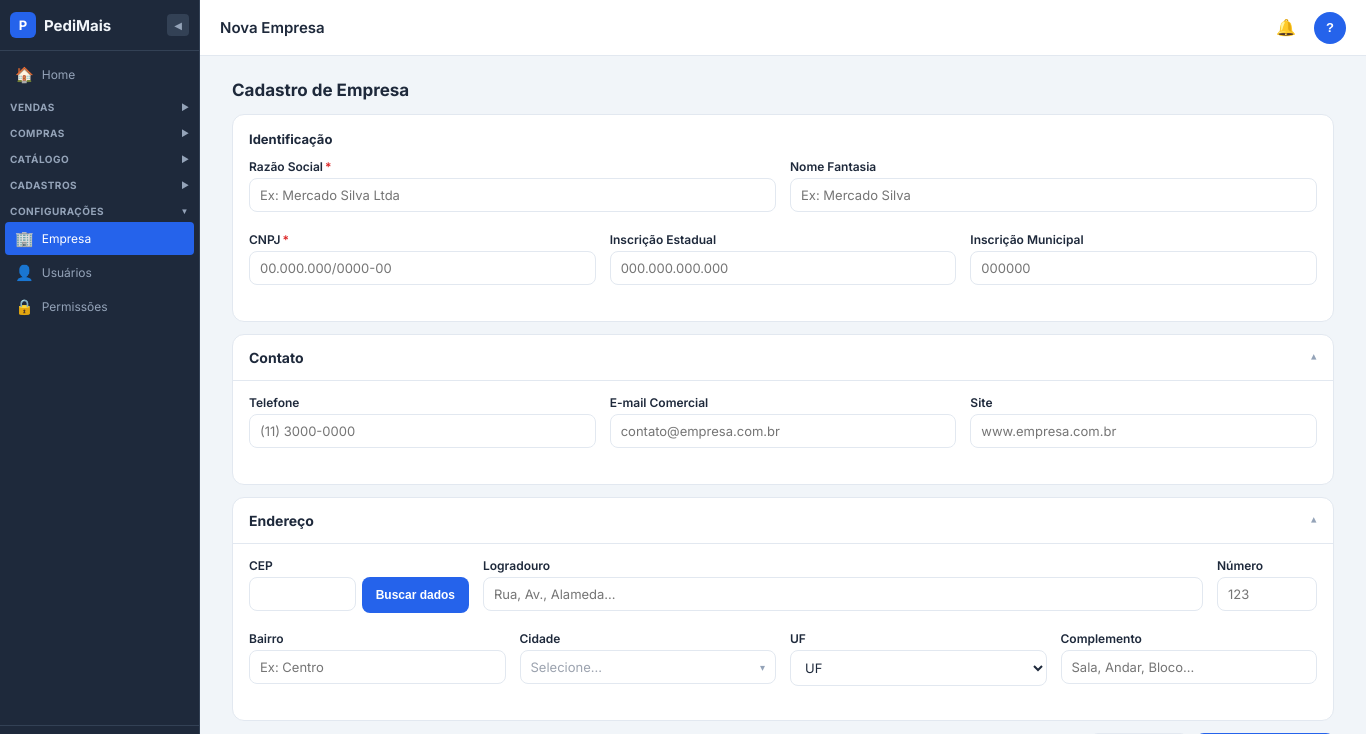
Test: CompanyFormView › loads the municipality list only when the cidade dropdown opens, scoped to the chosen UF
Select "SP" in the dropdown with test id "state". click: (918, 668)
box: [790,650,1046,686]
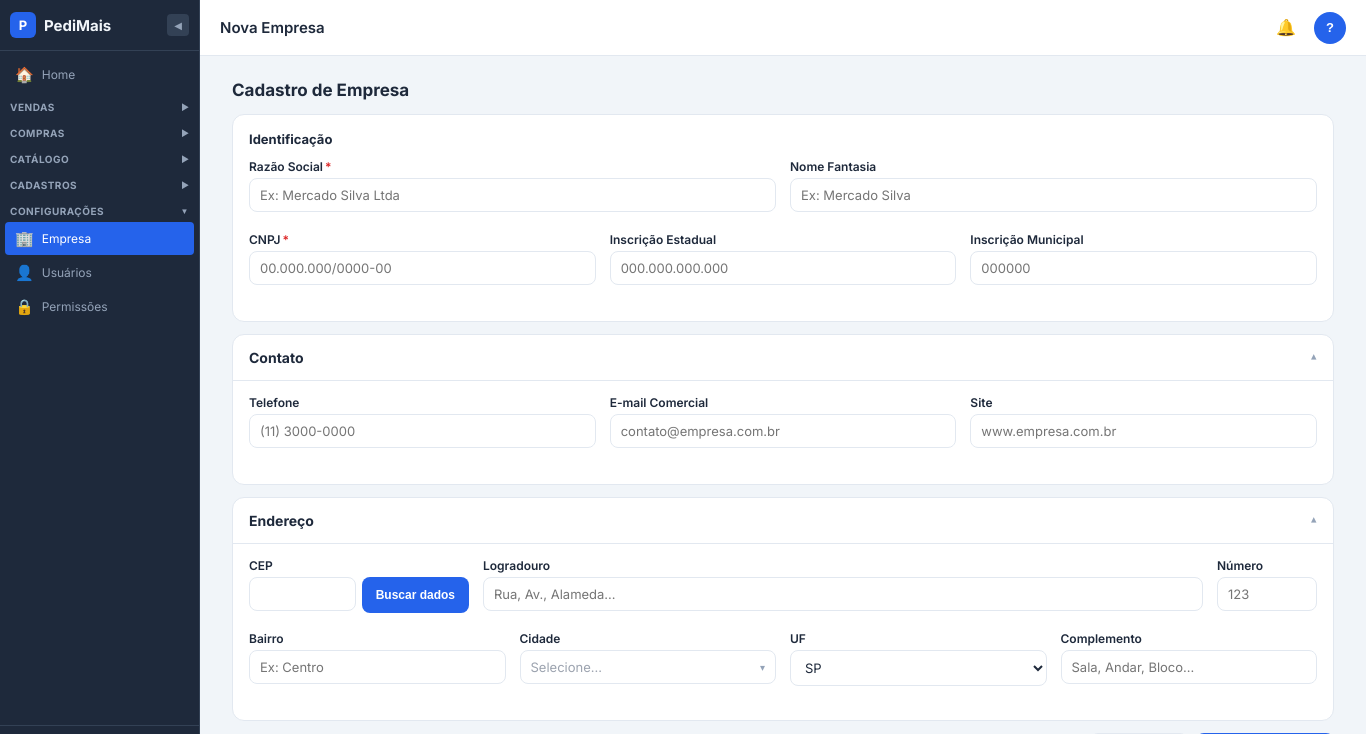
Click the element with test id "city". click: (648, 667)
box: [520,650,776,684]
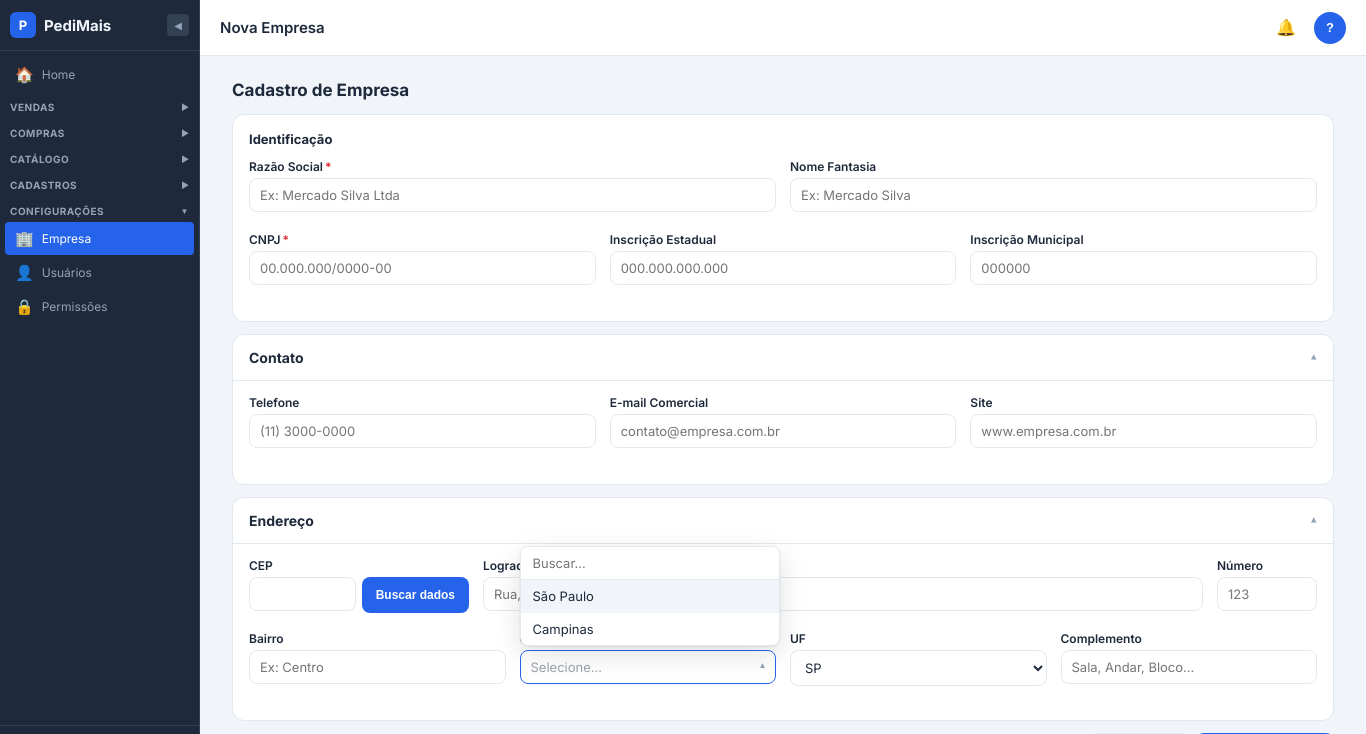
Click the element with test id "city-option-Campinas". click: (563, 629)
box: [532,621,594,637]
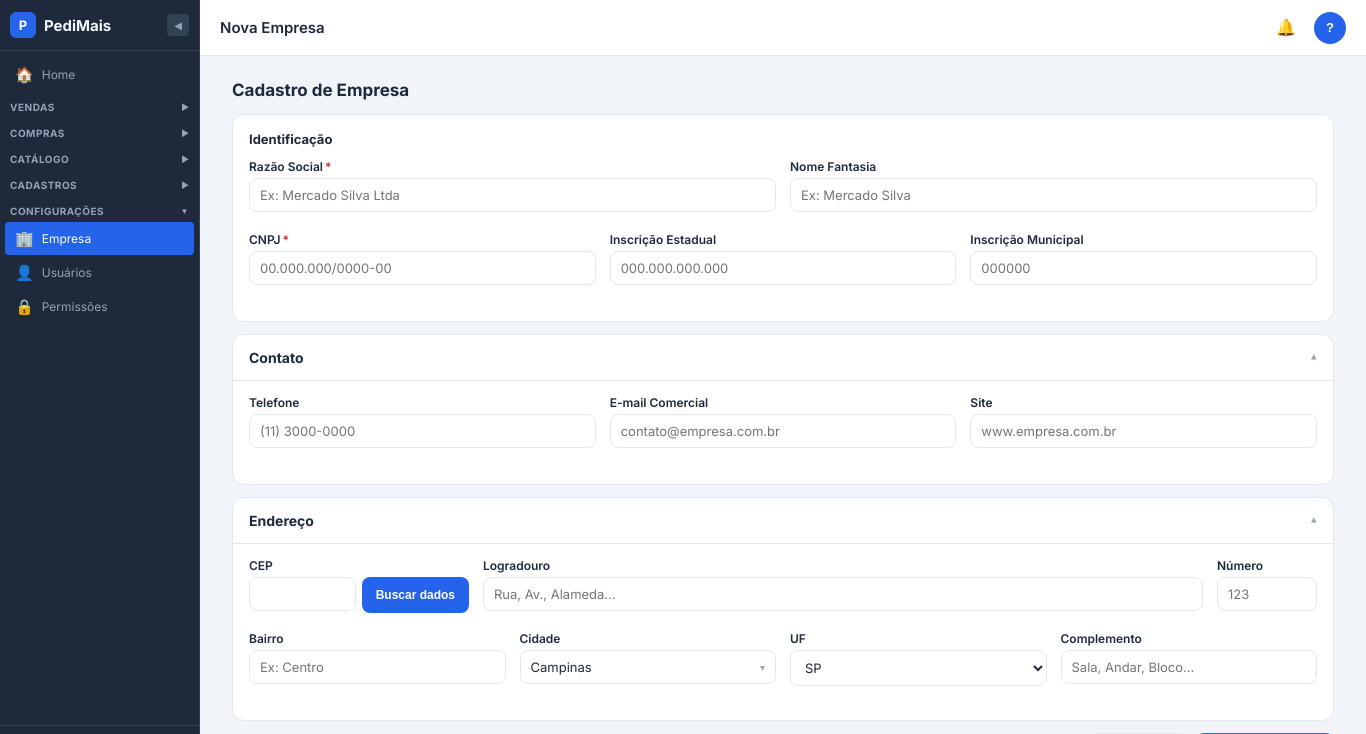
Now the element with test id "city" shows "Campinas", box [530,659,592,675]
